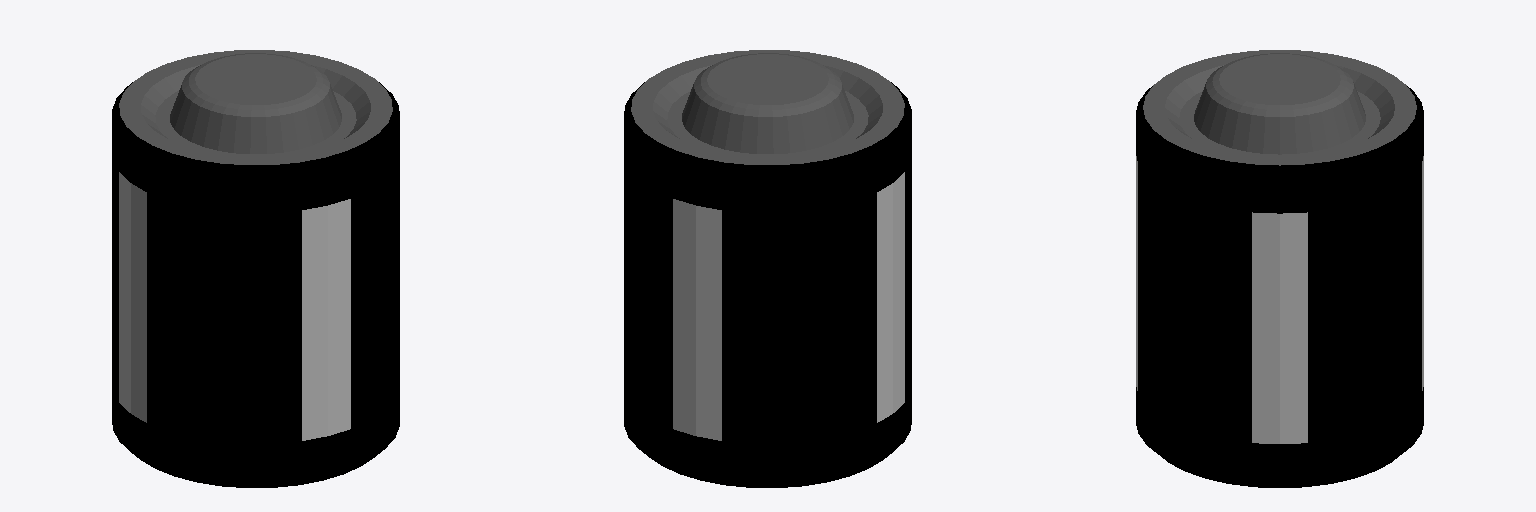
File: battery.obj
3 renders of one model, left to right at view 1: azimuth 30°, elevation 25°; view 2: azimuth 150°, elevation 25°; view 3: azimuth 270°, elevation 25°, orthographic.
Parts seen in each view (by area): view 1: Cylinder; view 2: Cylinder; view 3: Cylinder.
Part boxes in pixels (x1,y1,x2,y2): Cylinder: (112, 50, 399, 487); Cylinder: (624, 50, 911, 487); Cylinder: (1136, 50, 1423, 487).
Size of the model in its own units: 2 by 2.69 by 2.